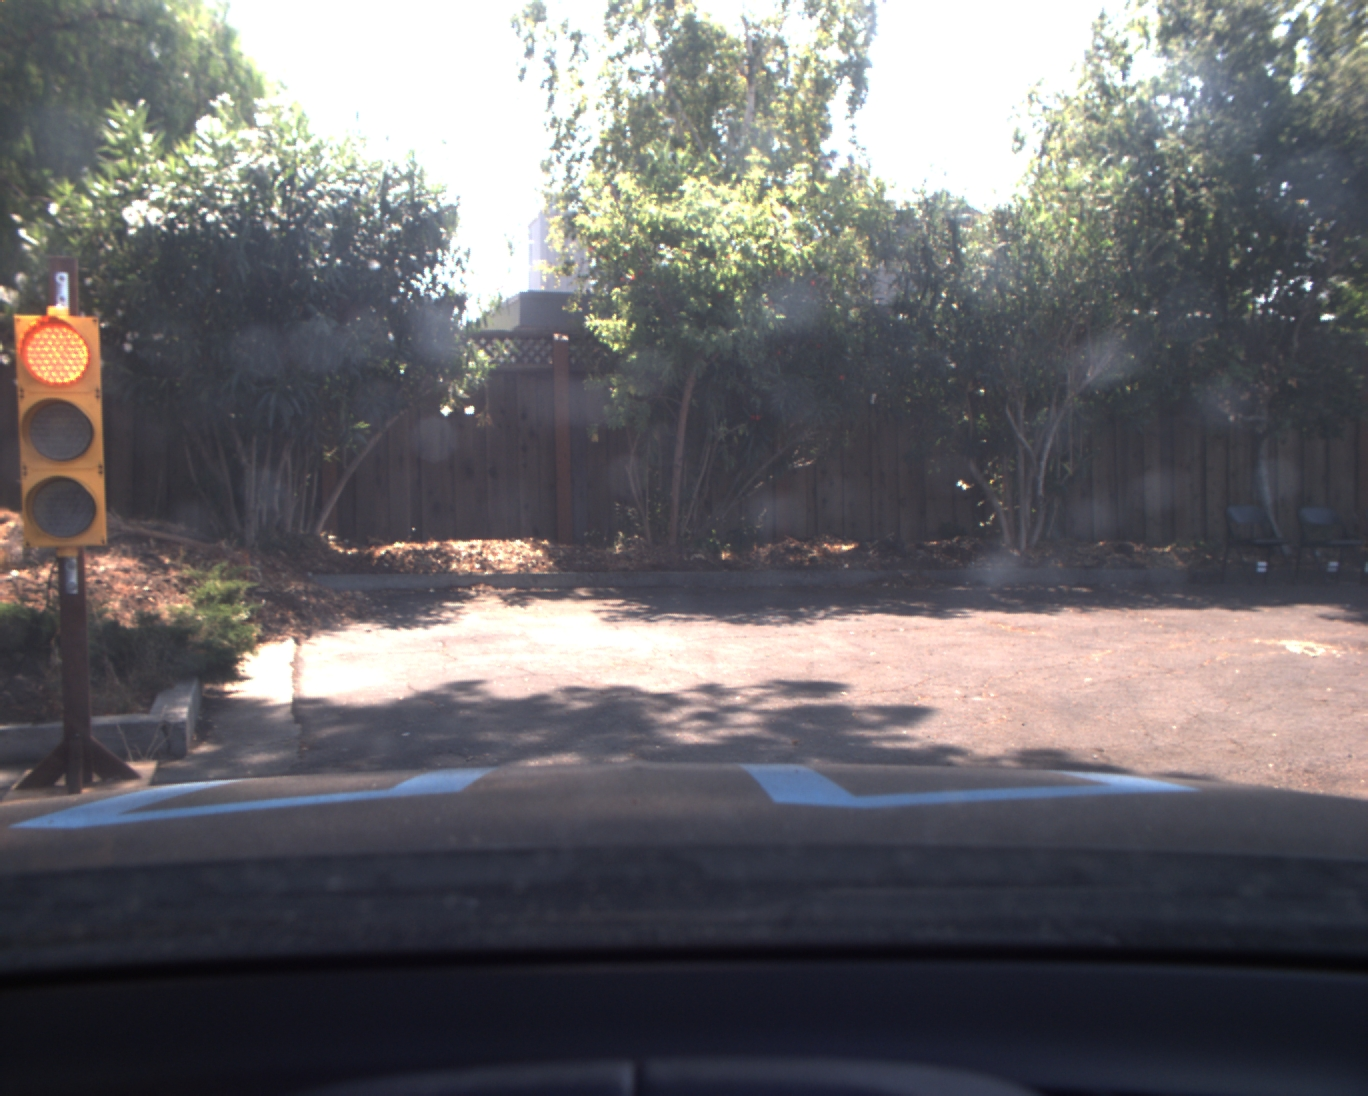red: (15, 311, 111, 547)
